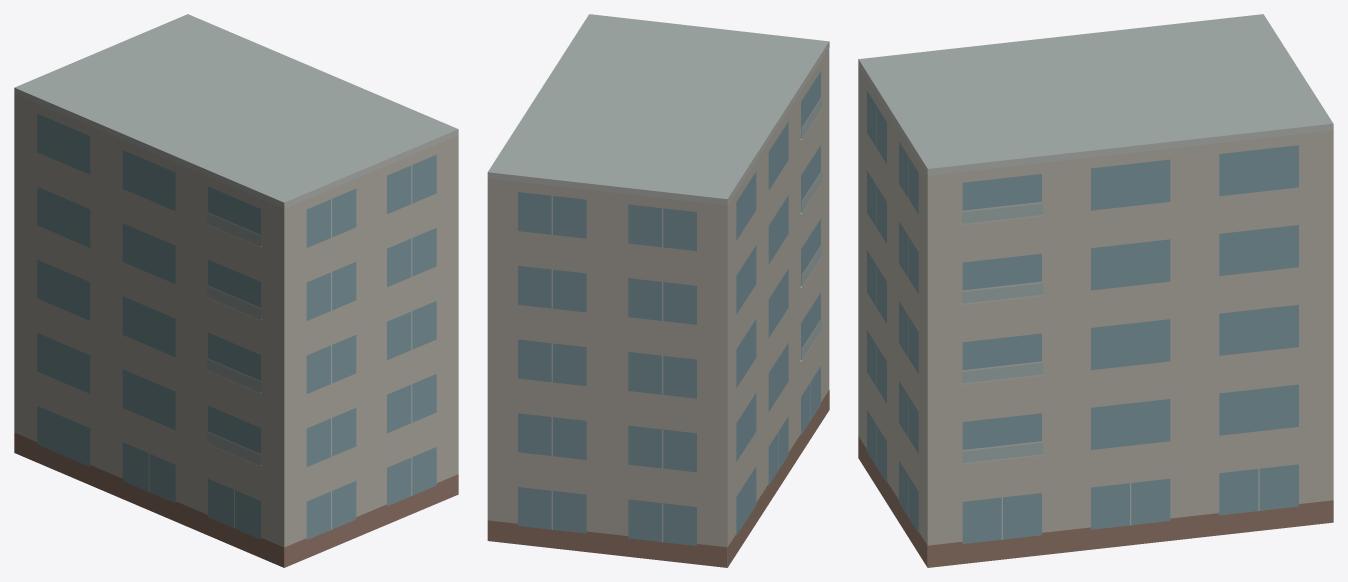
Rendered from survey-upis-32923563.glb.
The picture shows the model from 3 angles, left to right: view 1: azimuth 30°, elevation 25°; view 2: azimuth 150°, elevation 25°; view 3: azimuth 270°, elevation 25°; orthographic projection. The views are drawn at different scales.
Parts seen in each view (by area): view 1: survey-upis-32923563.tmp; view 2: survey-upis-32923563.tmp; view 3: survey-upis-32923563.tmp.
Part boxes in pixels (left/top/right/bottom): survey-upis-32923563.tmp: left=14, top=14, right=458, bottom=567; survey-upis-32923563.tmp: left=487, top=14, right=829, bottom=567; survey-upis-32923563.tmp: left=858, top=14, right=1333, bottom=567.
Size of the model in its own units: 12.01 by 14.4 by 15.55.
